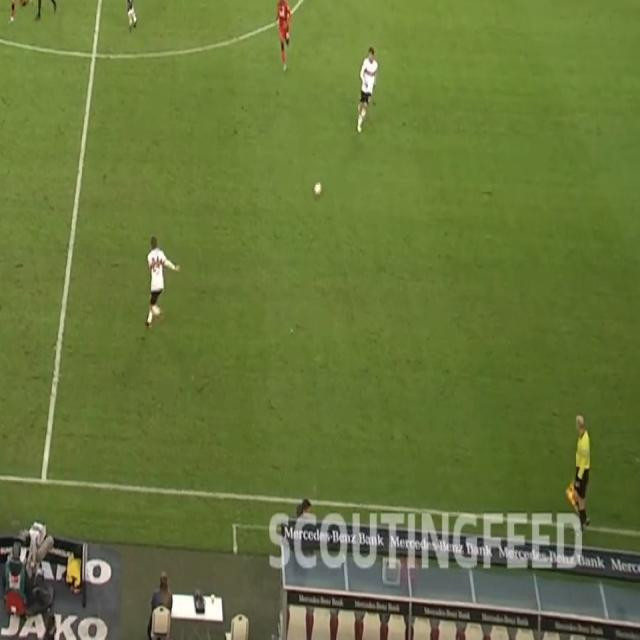ball: (313, 180, 323, 199)
